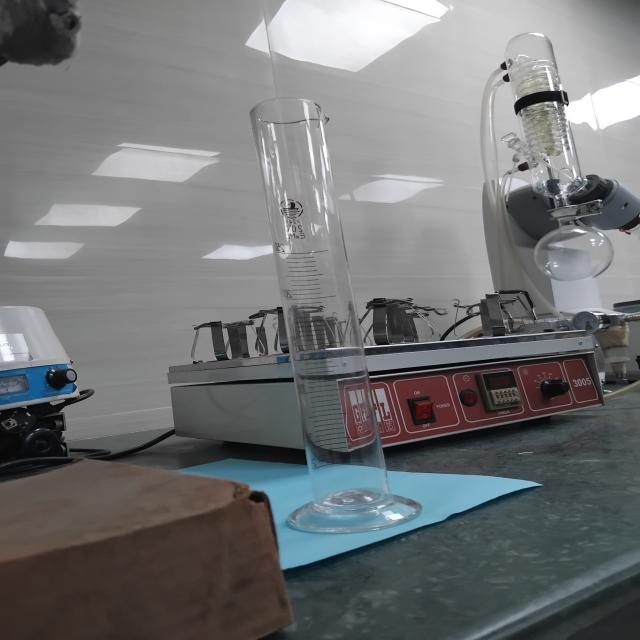Measuring_Cylinder: (203, 56, 435, 555)
